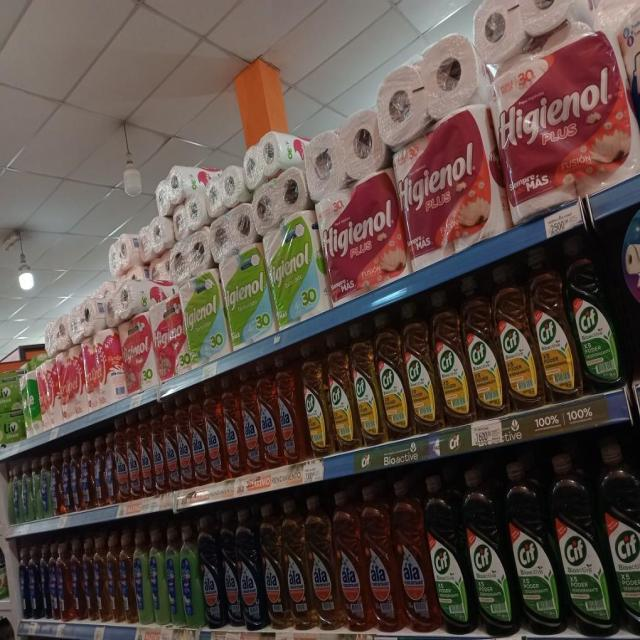ala_conc_amarillo: (308, 494, 334, 631), (284, 498, 308, 630), (262, 502, 284, 630)
ala_conc_azul: (239, 507, 261, 630), (202, 515, 221, 629), (222, 512, 239, 628)
ala_conc_rojo: (396, 478, 430, 633), (364, 482, 396, 632), (334, 488, 364, 632), (278, 356, 301, 466), (259, 362, 278, 470), (241, 370, 259, 474), (223, 378, 241, 479), (206, 387, 223, 483), (191, 393, 206, 486), (114, 421, 128, 502), (178, 399, 190, 489), (152, 406, 164, 495), (165, 404, 177, 492), (140, 412, 152, 498), (128, 415, 140, 499)
cif_conc_bot_amarilla: (536, 248, 575, 405), (500, 262, 536, 412), (468, 275, 501, 419), (436, 287, 468, 427), (406, 301, 436, 434), (379, 311, 406, 441), (354, 320, 379, 447), (329, 332, 354, 453), (303, 343, 329, 458)
cif_conc_botella_verde: (556, 452, 606, 636), (509, 459, 556, 634), (574, 232, 622, 392), (467, 466, 510, 636), (605, 440, 640, 636), (429, 473, 468, 634)
magistral_con_azul: (620, 201, 640, 304)
